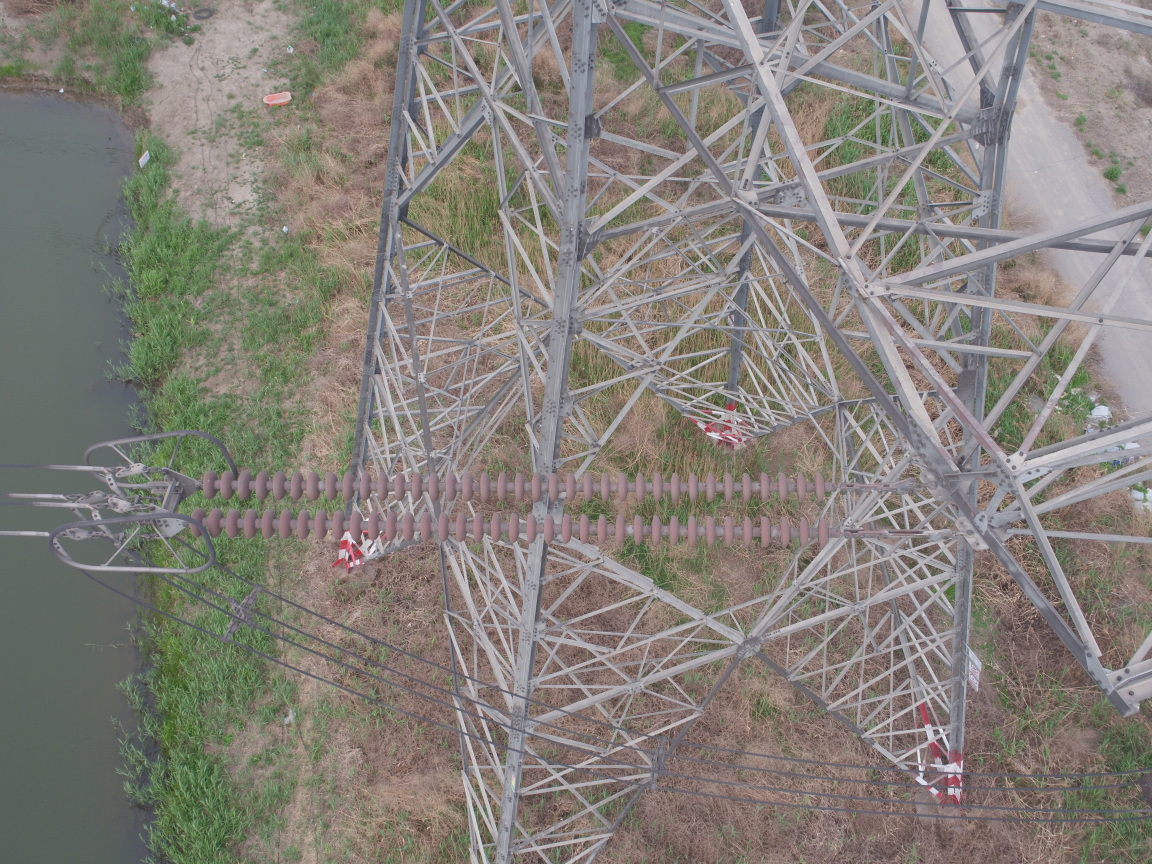insulator: (167, 465, 879, 553)
